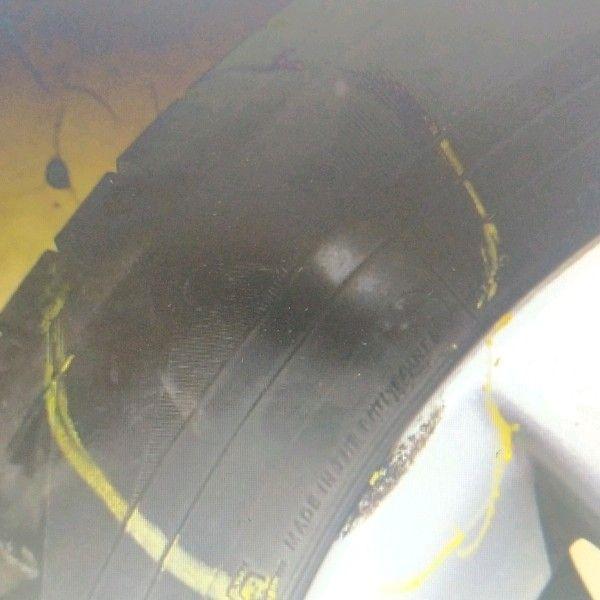CBU: (214, 157, 420, 365)
